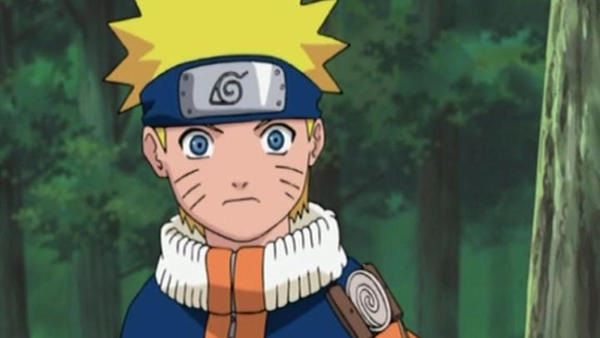naruto: (129, 44, 335, 248)
